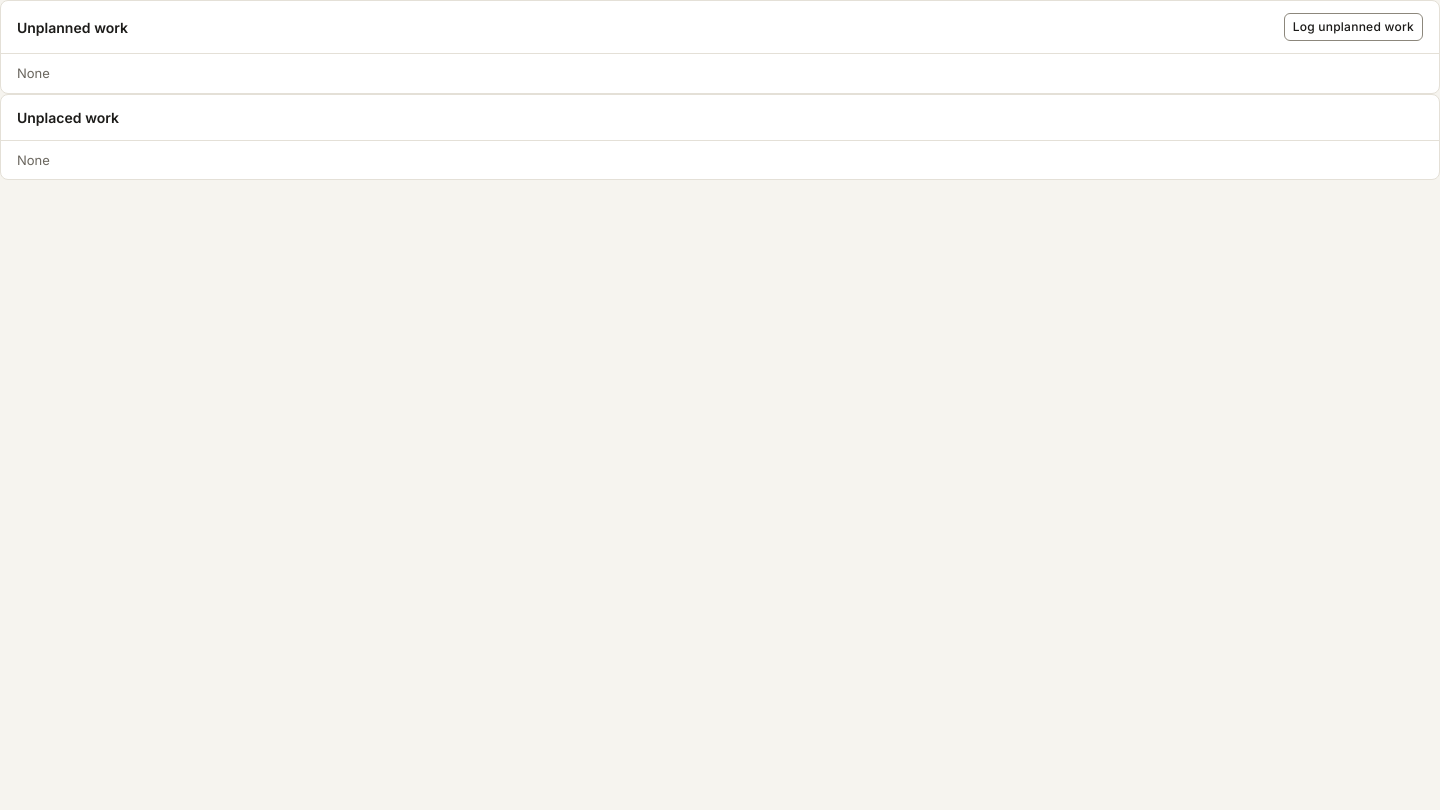
PlanSideCards unplanned work › opens the Log unplanned work dialog from the Unplanned work card
Click the button "Log unplanned work". click: [1353, 27]
box: 1284,13 -> 1423,41
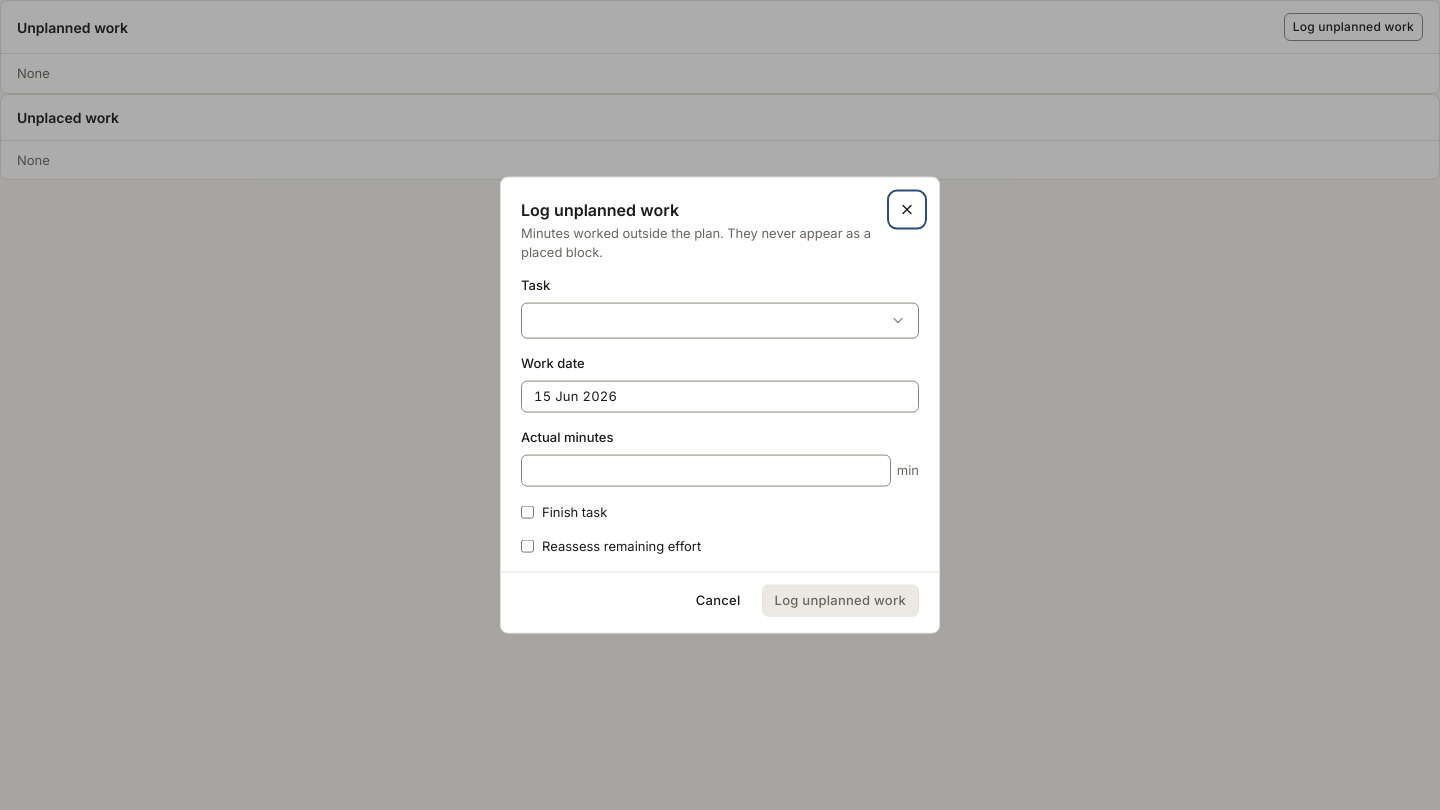
expect the dialog "Log unplanned work" is shown: met, box 500,177 -> 940,634
